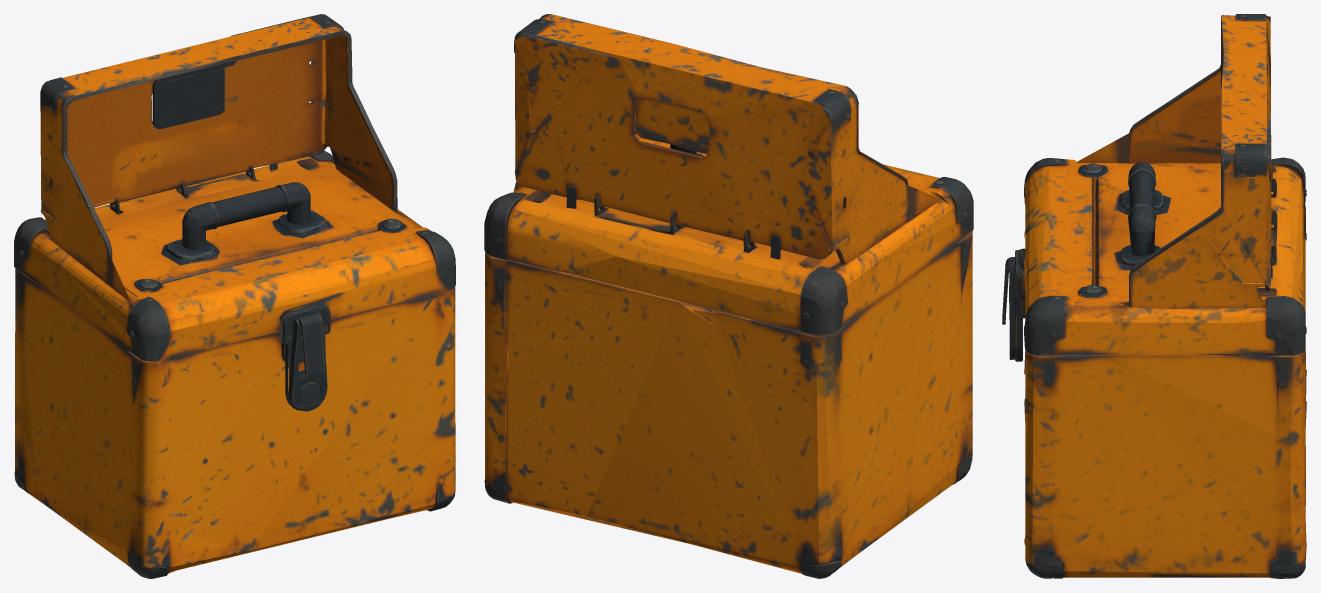
Rendered from ammo_9mm.glb.
3 renders of one model, left to right at view 1: azimuth 30°, elevation 25°; view 2: azimuth 150°, elevation 25°; view 3: azimuth 270°, elevation 25°, orthographic. The views are drawn at different scales.
Bounding box in the file's own units: 1.51 × 1.9 × 1.23.
Materials: 1 (1 with a texture image).
